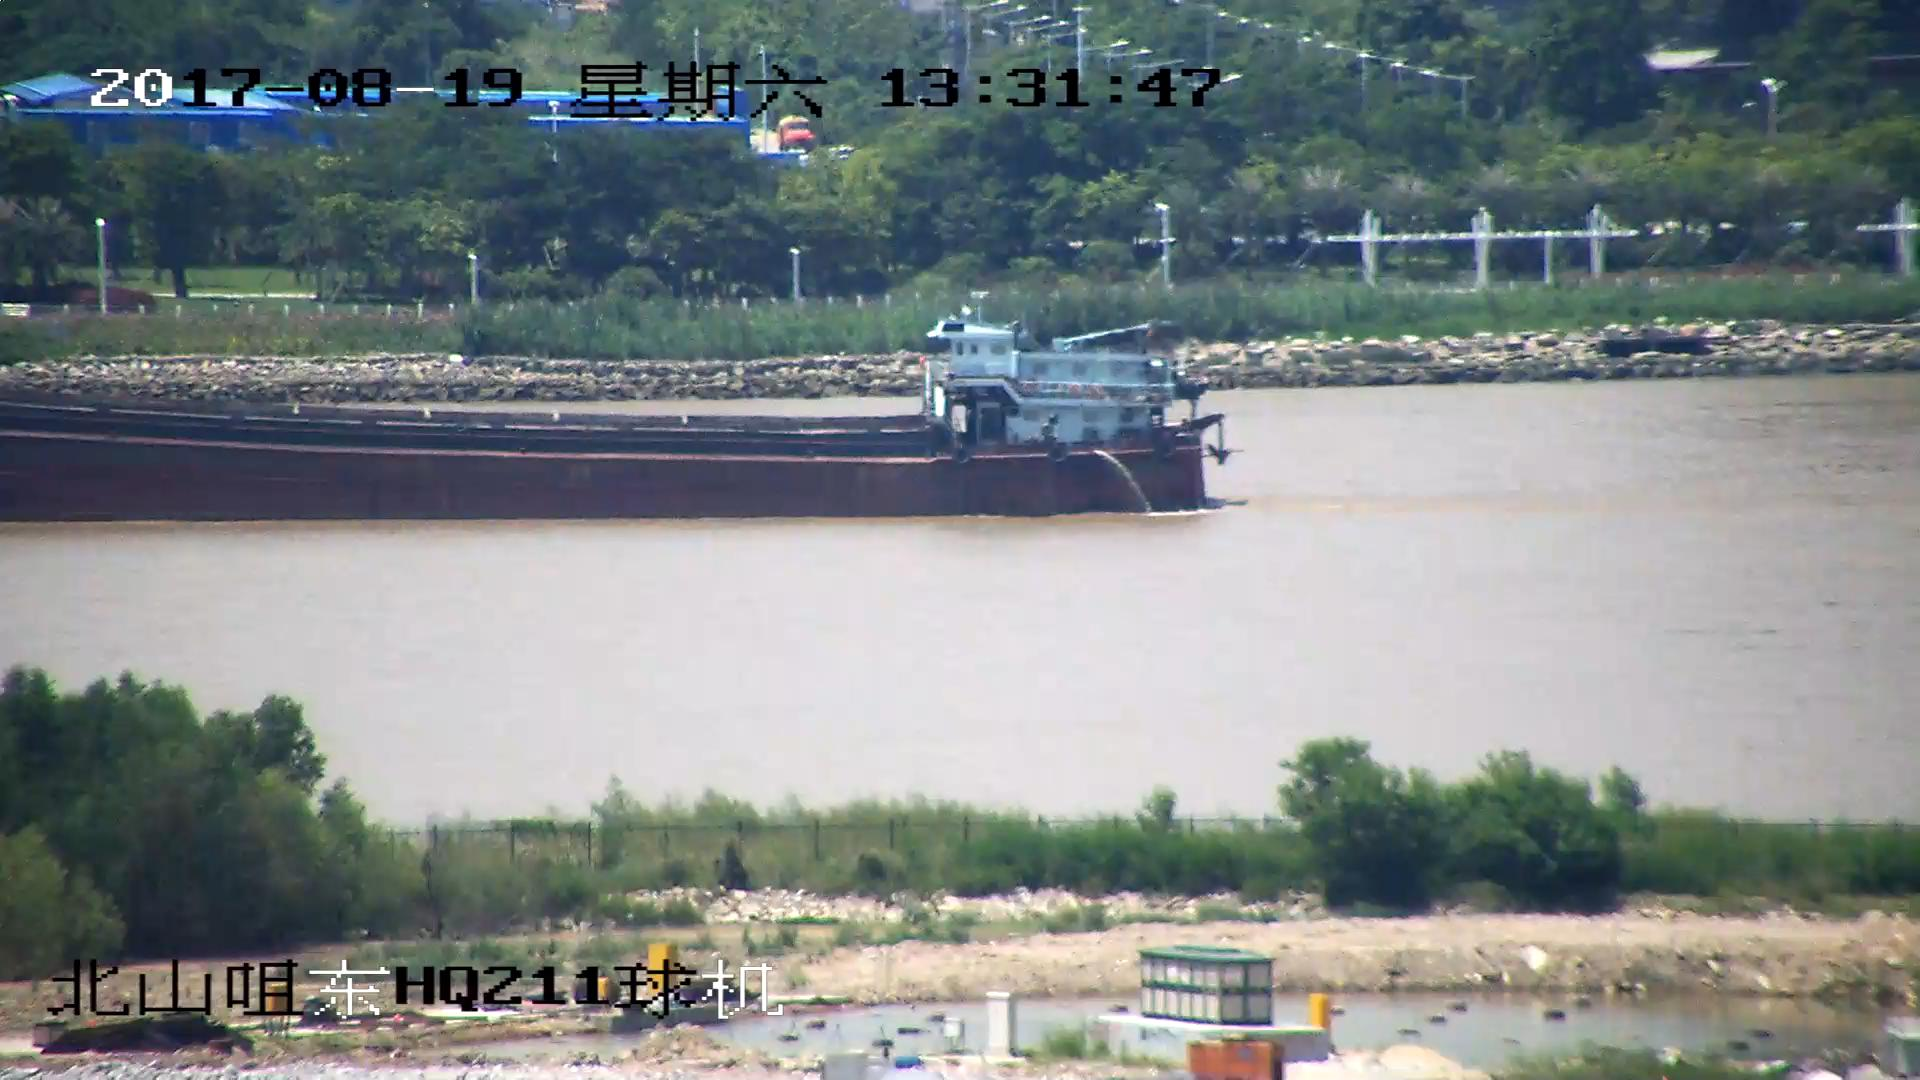bulk cargo carrier: (1, 295, 1225, 521)
